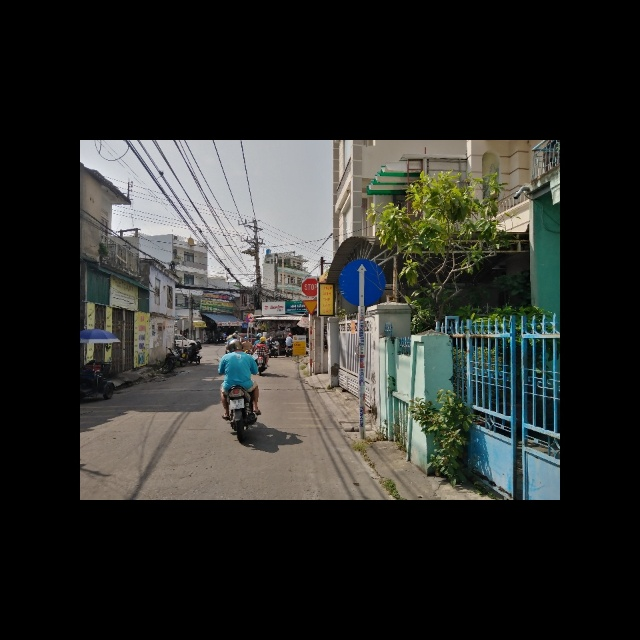Dừng lại: (302, 278, 318, 297)
Giao nhau với đường ưu tiên: (301, 300, 317, 316)
Đường một chiều: (339, 259, 386, 309)
